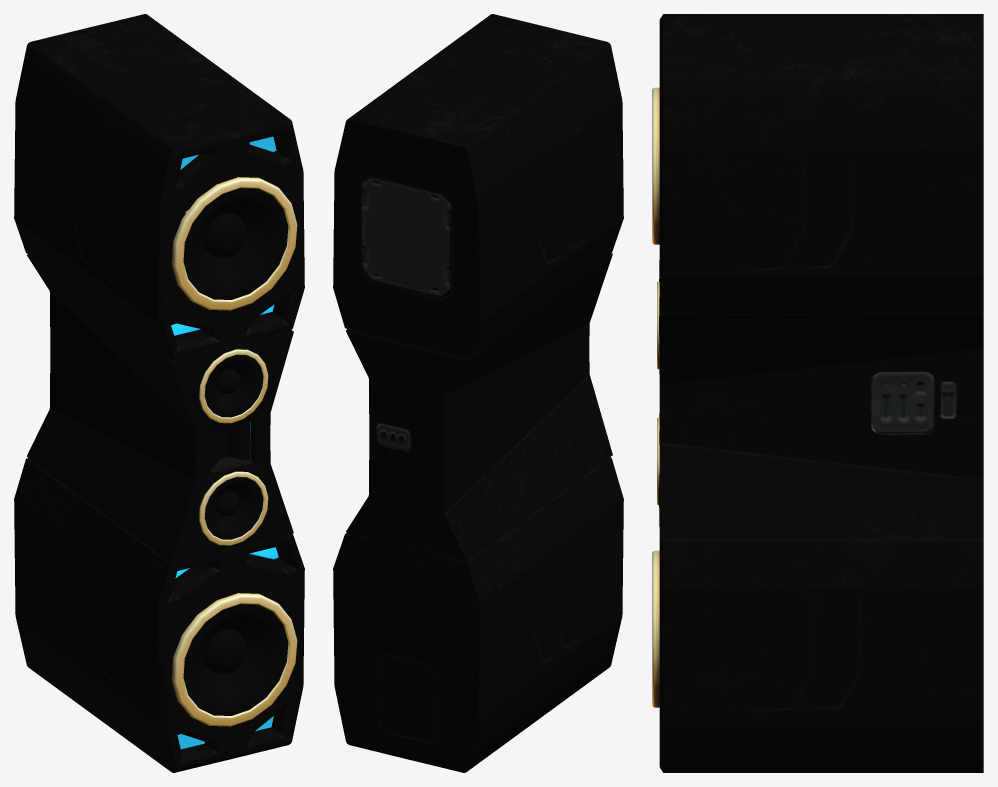
The model's file is prop2.glb.
The picture shows the model from 3 angles, left to right: view 1: azimuth 30°, elevation 25°; view 2: azimuth 150°, elevation 25°; view 3: azimuth 270°, elevation 25°; orthographic projection. The views are drawn at different scales.
Visible parts, largest first — view 1: PP_Prop_02; view 2: PP_Prop_02; view 3: PP_Prop_02.
Boxes of the visible parts, bbox=[...] form: PP_Prop_02: bbox=[14, 14, 304, 772]; PP_Prop_02: bbox=[333, 14, 623, 772]; PP_Prop_02: bbox=[652, 14, 983, 772].
Size of the model in its own units: 0.2328 by 0.9488 by 0.4092.
1 material, 1 textured.
